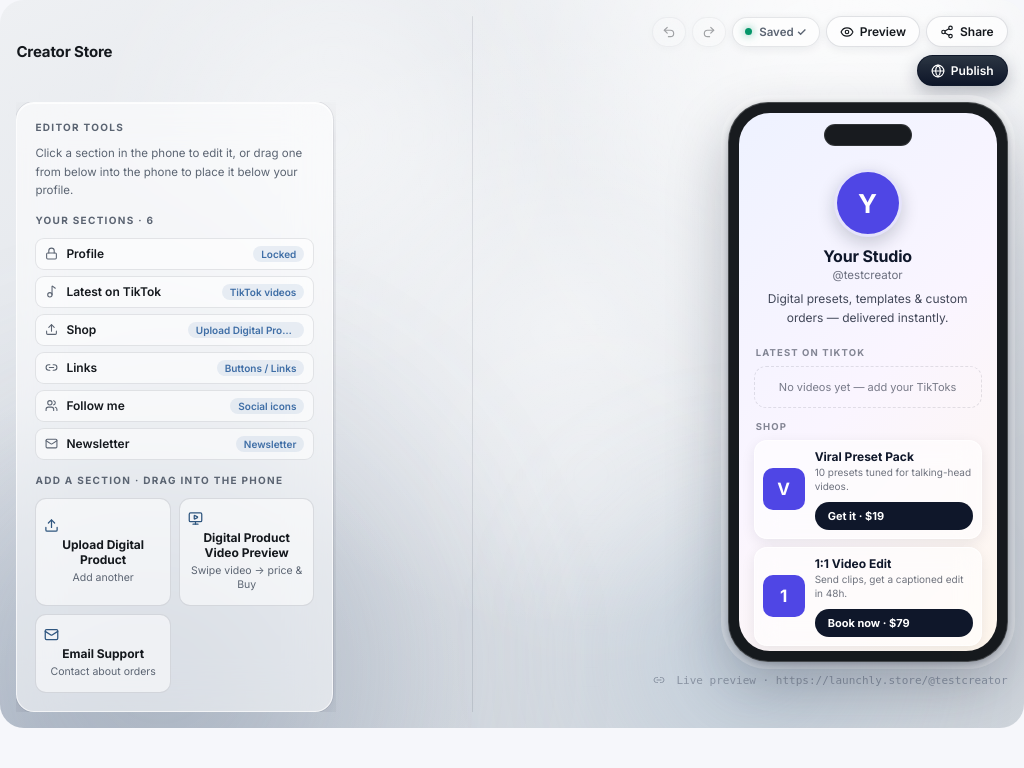
Test: CreatorStorePage › edits a product by clicking it in the phone preview
Click the text "Viral Preset Pack" at coordinates (864, 456), box x1=815 y1=449 x2=914 y2=464
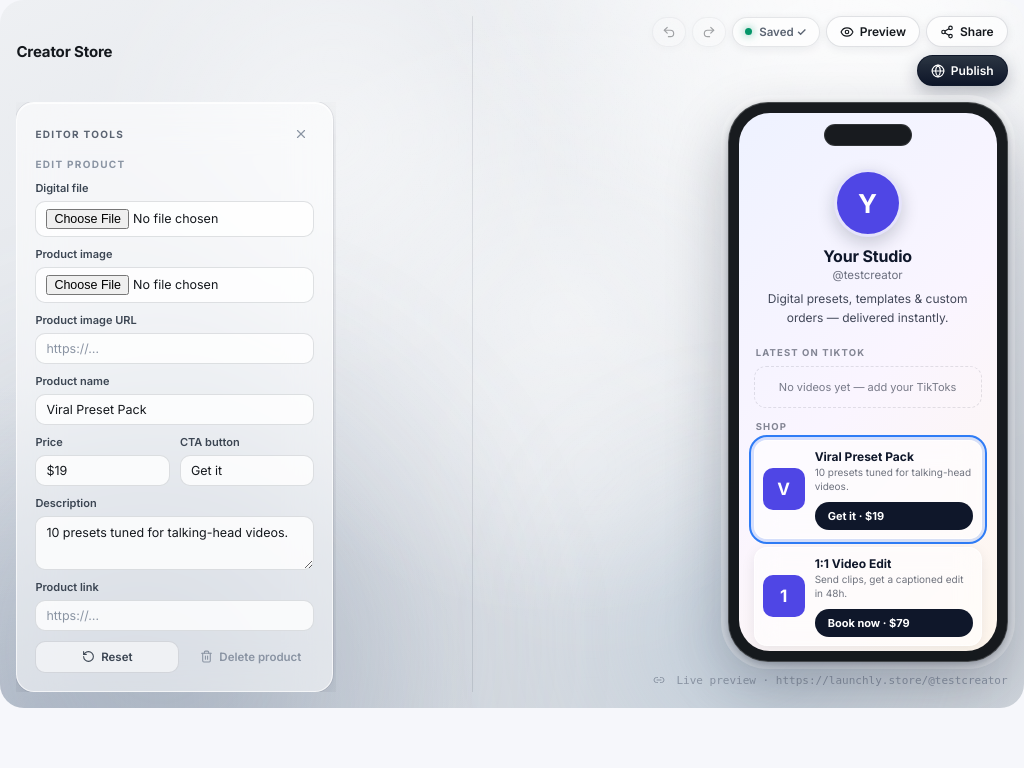
expect the field labelled "Product image URL" is shown: met, box x1=35 y1=333 x2=314 y2=364
Replace the text in the field labelled "Product name" with "Test Ebook" at coordinates (175, 410), box x1=35 y1=394 x2=314 y2=425
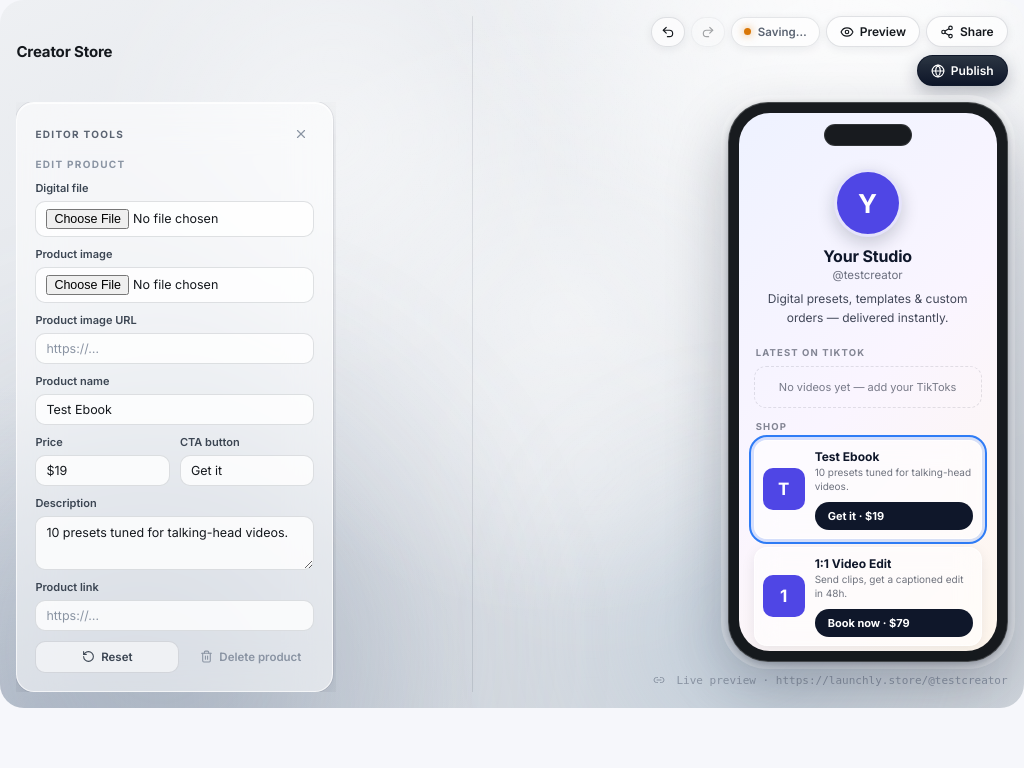
expect the text "Test Ebook" is shown: met, box x1=815 y1=449 x2=879 y2=464
